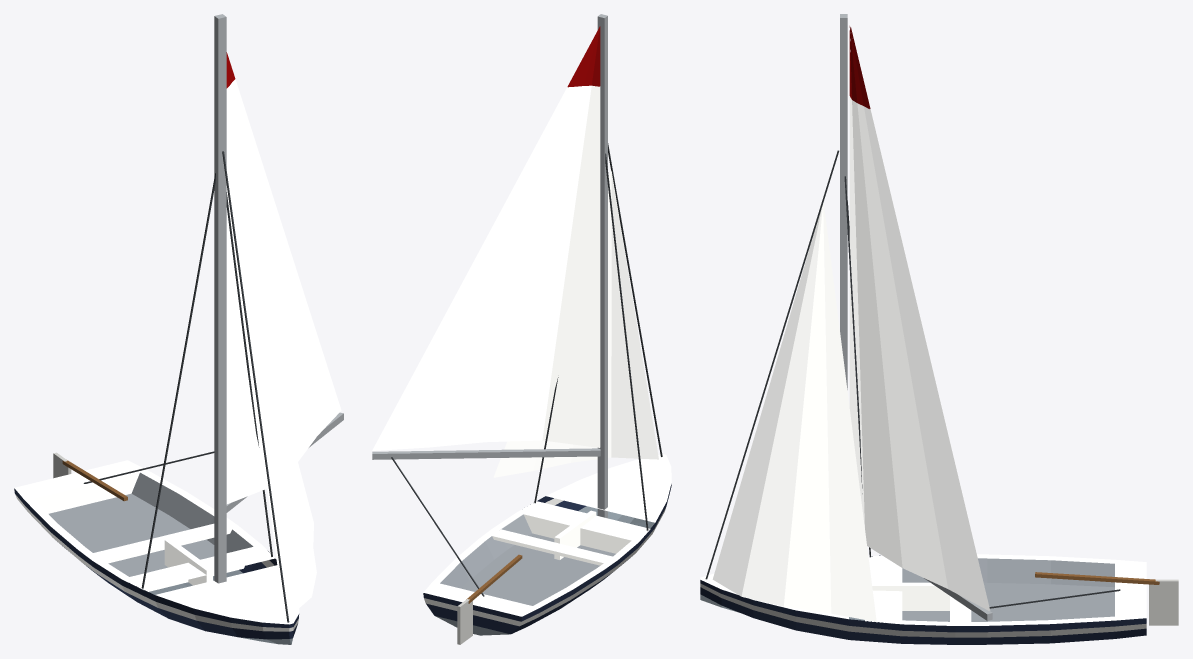
File: sailboat-navy-run.glb
3 views of the same model, side by side, from view 1: azimuth 30°, elevation 25°; view 2: azimuth 150°, elevation 25°; view 3: azimuth 270°, elevation 25° (orthographic). The views are drawn at different scales.
Parts seen in each view (by area): view 1: sailboat-navy; view 2: sailboat-navy; view 3: sailboat-navy.
Part boxes in pixels (x1,y1,x2,y2): sailboat-navy: (14,14,343,644); sailboat-navy: (372,14,671,644); sailboat-navy: (700,14,1178,644).
Bounding box in the file's own units: 2.94 × 6.36 × 4.5.
